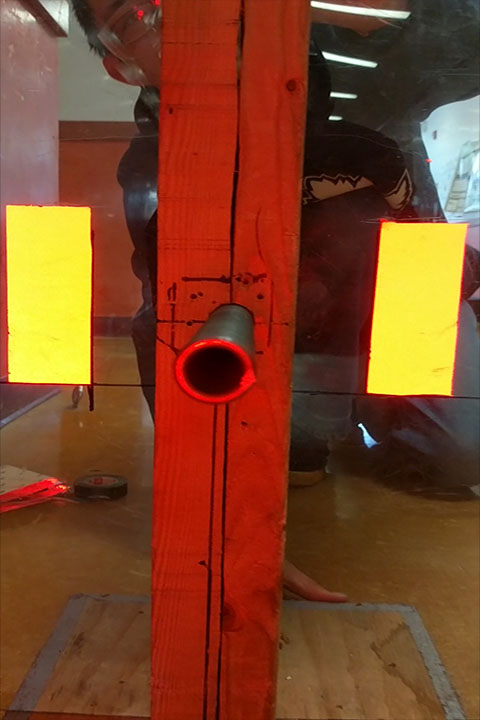gear: (365, 221, 468, 396), (4, 204, 94, 387)
